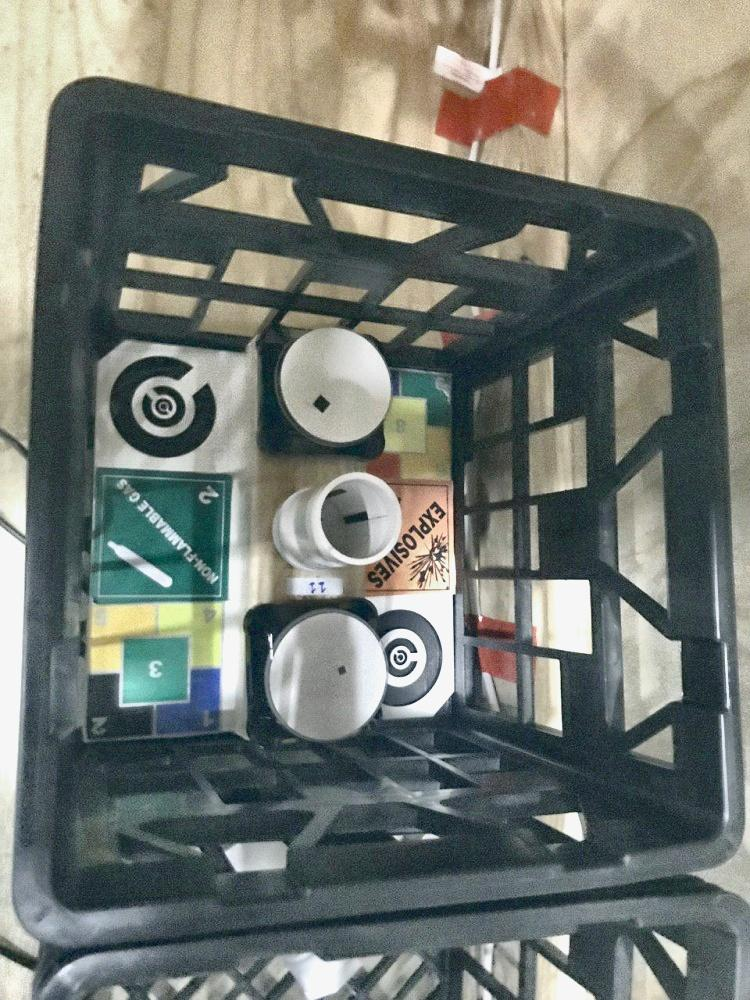explosive: (357, 482, 462, 589)
non-flammable-gas: (96, 474, 236, 607)
